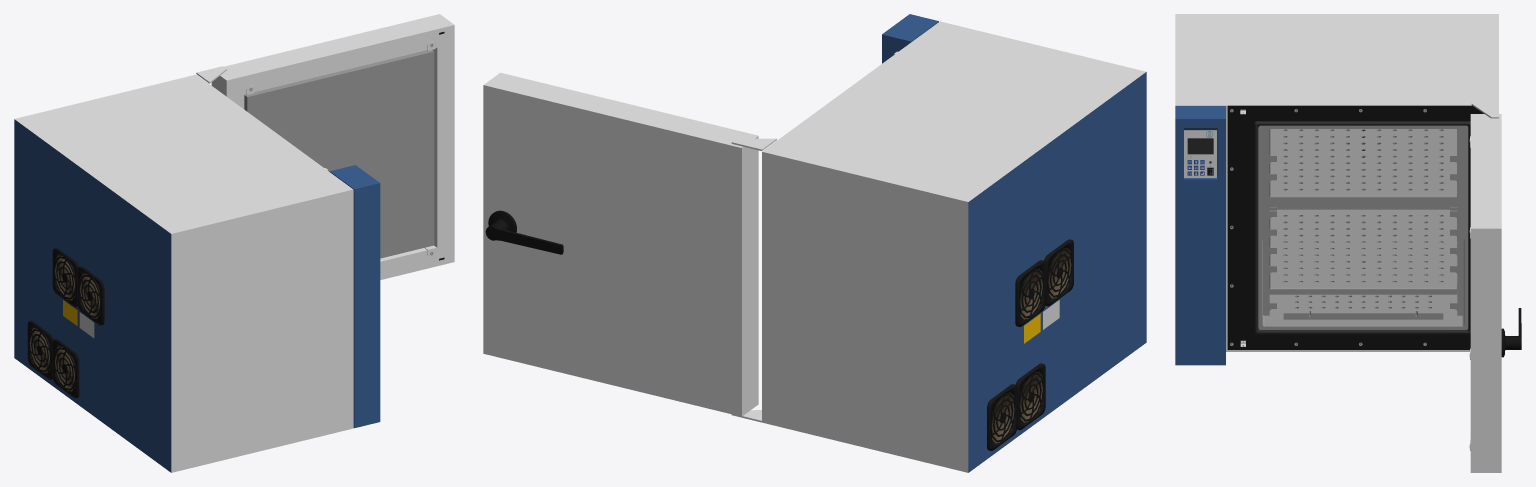
File: SushBox.fbx
3 views of the same model, side by side, from view 1: azimuth 30°, elevation 25°; view 2: azimuth 150°, elevation 25°; view 3: azimuth 270°, elevation 25° (orthographic). The views are drawn at different scales.
Visible parts, largest first — view 1: Cube, Cube.001; view 2: Cube, Cube.001; view 3: Cube, Cube.001.
Boxes of the visible parts, bbox=[...] form: Cube: bbox=[14, 66, 380, 472]; Cube.001: bbox=[211, 14, 454, 279]; Cube: bbox=[731, 14, 1146, 472]; Cube.001: bbox=[483, 72, 758, 416]; Cube: bbox=[1175, 14, 1498, 365]; Cube.001: bbox=[1469, 114, 1521, 472].
Size of the model in its own units: 602 by 322 by 408.
12 materials, 3 textured.
